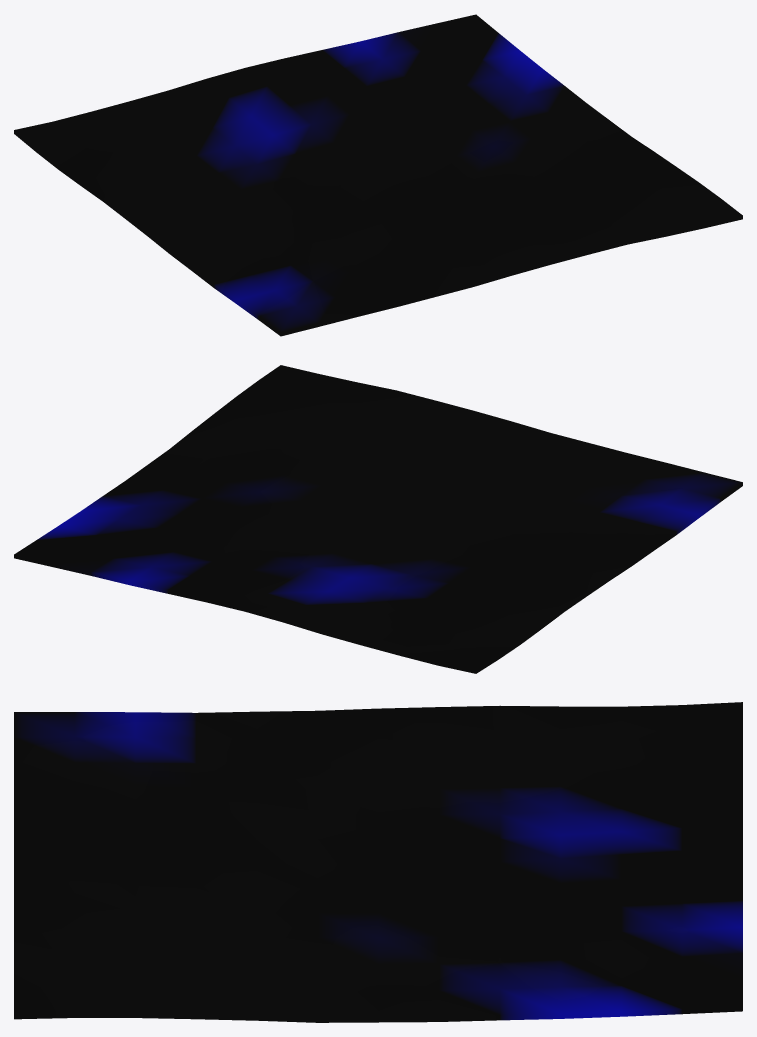
Rendered from coast_0_5.glb.
3 renders of one model, top to bottom at view 1: azimuth 30°, elevation 25°; view 2: azimuth 150°, elevation 25°; view 3: azimuth 270°, elevation 25°, orthographic. The views are drawn at different scales.
Visible parts, largest first — view 1: terrain; view 2: terrain; view 3: terrain.
Part boxes in pixels (bbox=[...]): terrain: bbox=[14, 14, 742, 336]; terrain: bbox=[14, 365, 742, 673]; terrain: bbox=[14, 702, 742, 1022].
Size of the model in its own units: 192 by 6.94 by 192.
